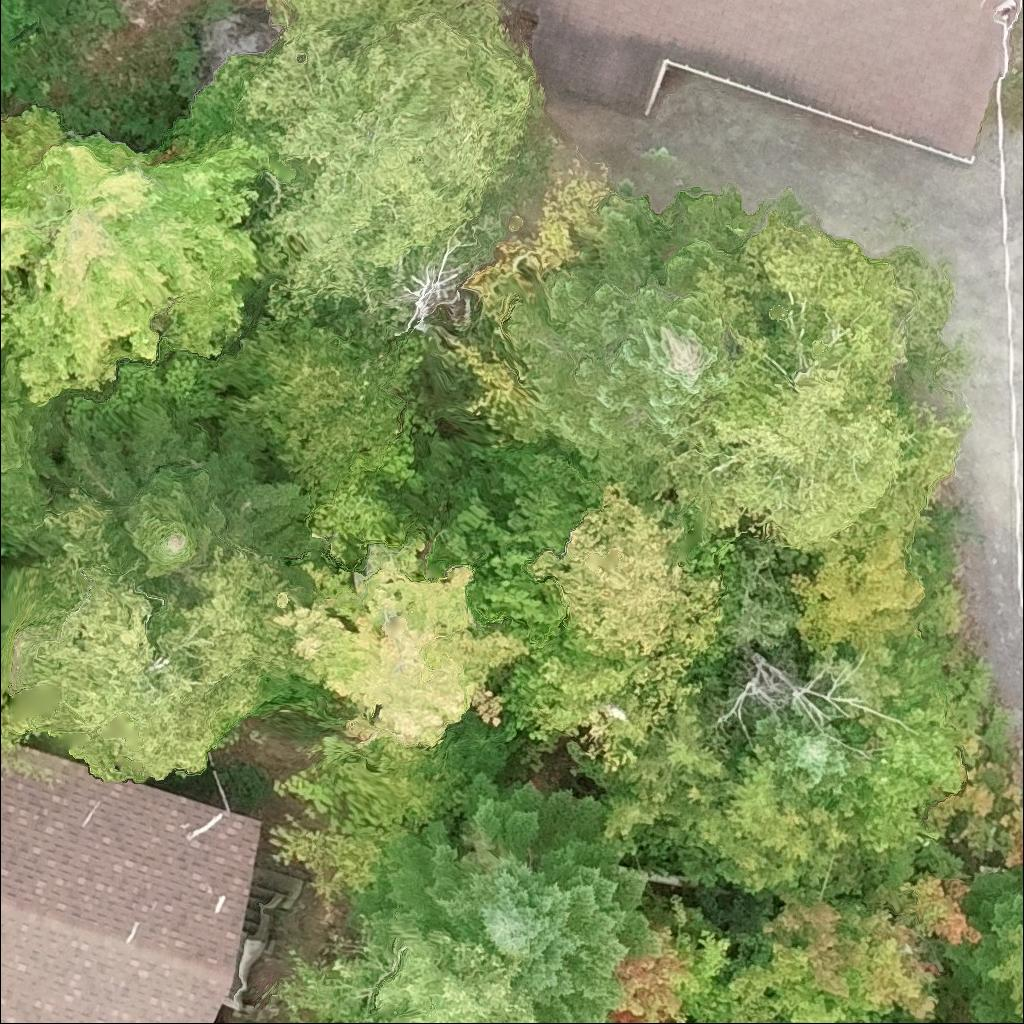crown: (682, 220, 973, 560), (240, 0, 535, 308), (0, 106, 270, 397), (358, 772, 657, 1023), (510, 189, 760, 453), (242, 304, 425, 490), (664, 717, 860, 890), (768, 875, 983, 1023), (862, 690, 964, 849), (947, 861, 1023, 1023), (716, 656, 867, 733), (0, 344, 59, 540), (380, 228, 464, 342), (606, 926, 701, 1023), (756, 721, 865, 798), (0, 0, 18, 91)
